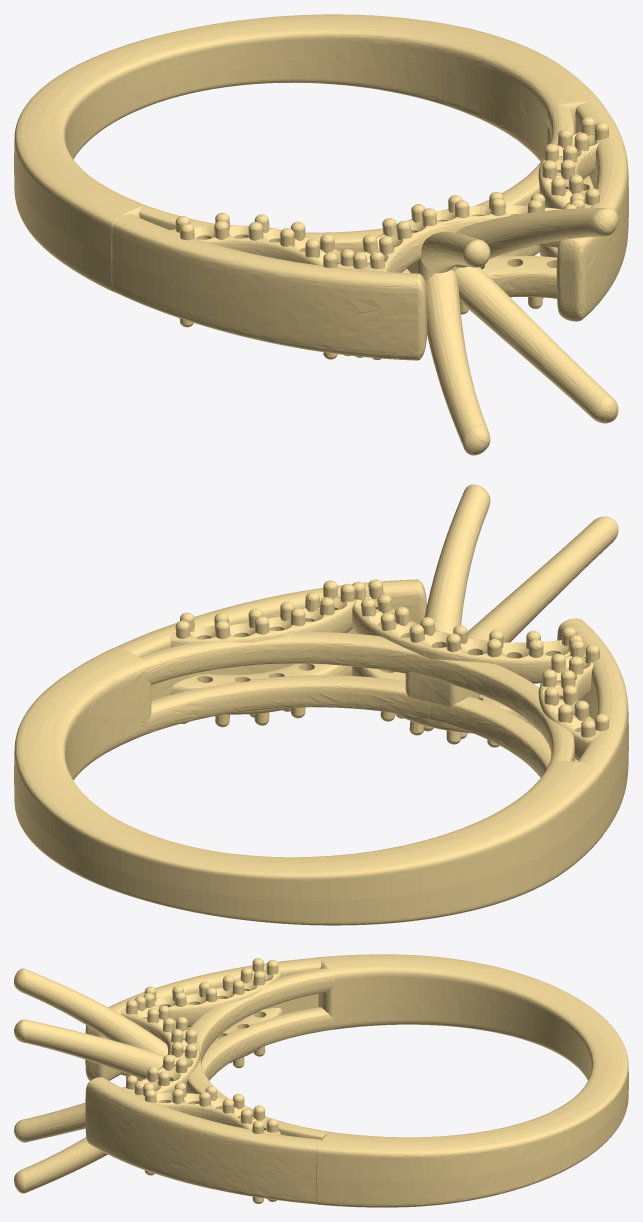
Rendered from engagement-ring-b.glb.
3 renders of one model, top to bottom at view 1: azimuth 30°, elevation 25°; view 2: azimuth 150°, elevation 25°; view 3: azimuth 270°, elevation 25°, orthographic. The views are drawn at different scales.
Visible parts, largest first — view 1: Metal Yellow Gold; view 2: Metal Yellow Gold; view 3: Metal Yellow Gold.
Boxes of the visible parts, x1,y1,x2,y2 form: Metal Yellow Gold: [14, 14, 628, 455]; Metal Yellow Gold: [14, 484, 628, 925]; Metal Yellow Gold: [14, 954, 628, 1207].
Bounding box in the file's own units: 20.35 × 8.13 × 26.36.
